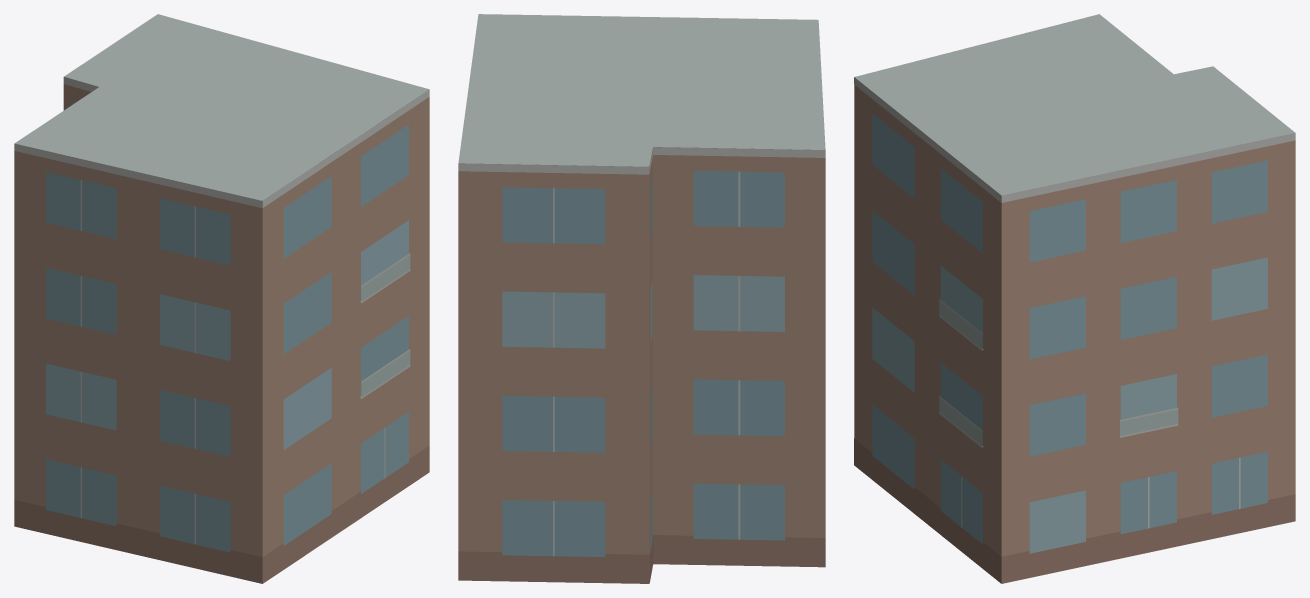
File: survey-upis-32612973.glb
The picture shows the model from 3 angles, left to right: view 1: azimuth 30°, elevation 25°; view 2: azimuth 150°, elevation 25°; view 3: azimuth 270°, elevation 25°; orthographic projection. The views are drawn at different scales.
Parts seen in each view (by area): view 1: survey-upis-32612973.tmp; view 2: survey-upis-32612973.tmp; view 3: survey-upis-32612973.tmp.
Part boxes in pixels (x1,y1,x2,y2): survey-upis-32612973.tmp: (14,14,429,583); survey-upis-32612973.tmp: (458,14,825,583); survey-upis-32612973.tmp: (854,14,1295,583).
Size of the model in its own units: 12.85 by 12.8 by 13.2.
